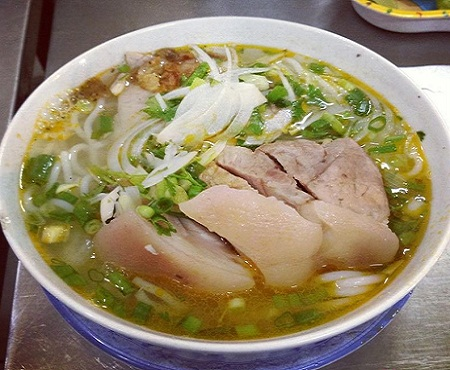onion: (160, 72, 260, 158)
pork: (207, 141, 380, 282), (91, 194, 245, 293)
